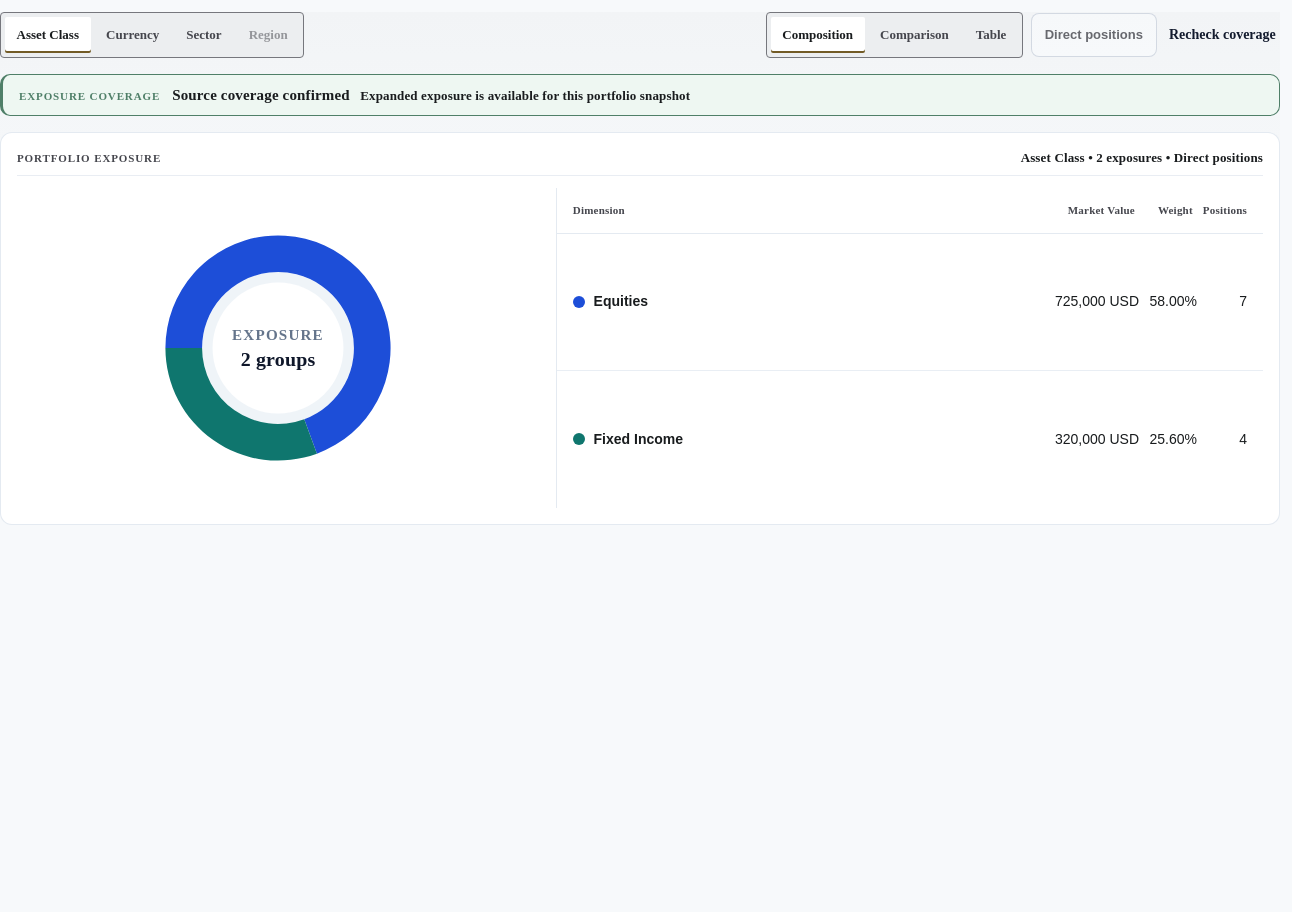
Test: PortfolioAllocationPanel › keeps source-confirmed empty expanded coverage distinct from unsupported coverage
This screenshot has width=1292, height=912.
Expected: the text "Source coverage confirmed" is shown, [172,85,350,105]
Expected: the text "Expanded exposure is available for this portfolio snapshot" is shown, [360,87,690,105]
Click the button with aria-label "Show expanded exposure".
click(1094, 35)  # box [1031,13,1157,57]
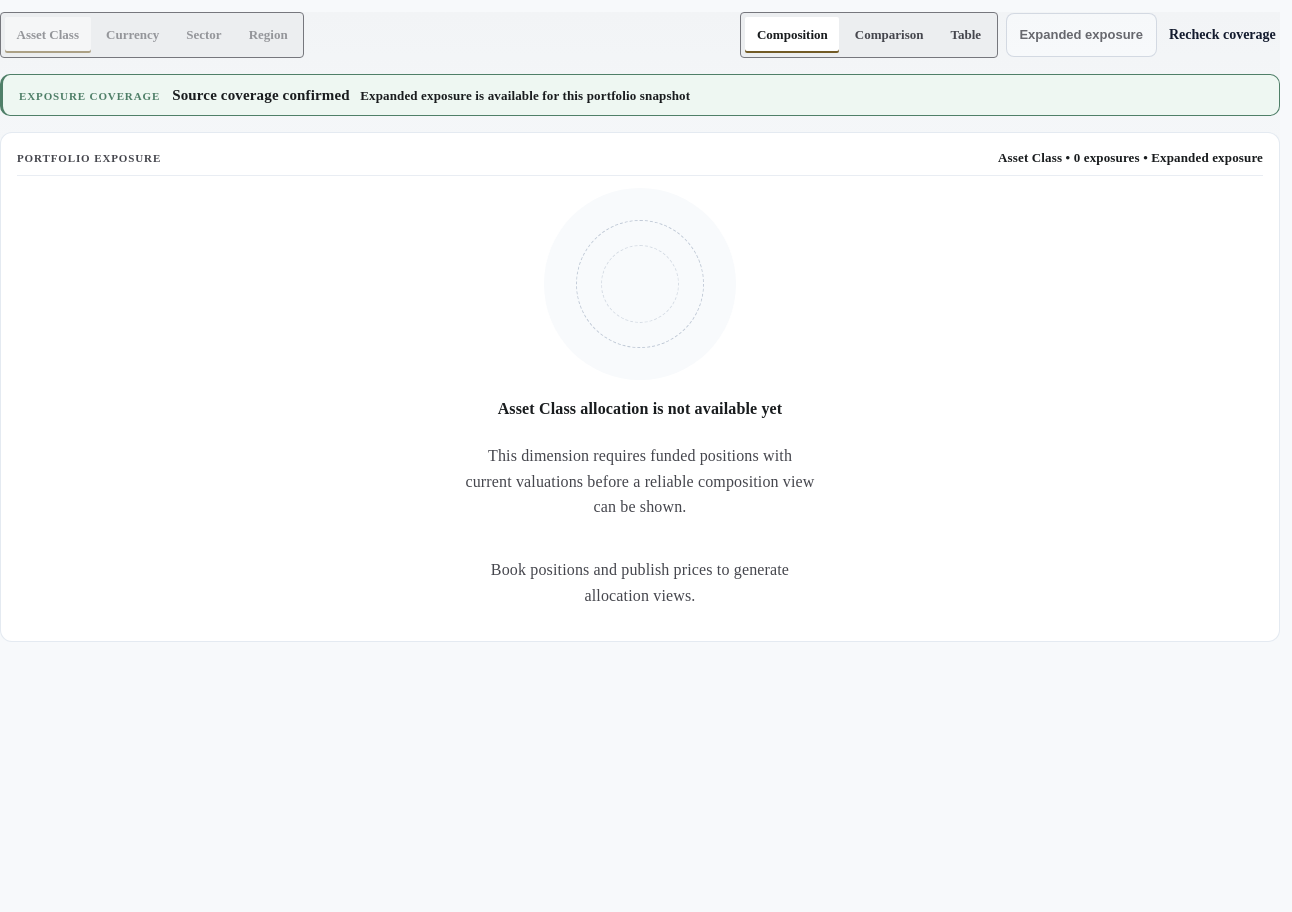
Expected: the button with aria-label "Show direct positions" is enabled, [1006,13,1157,57]
Result: the text "Asset Class allocation is not available yet" is shown once at [498,400,782,417]
